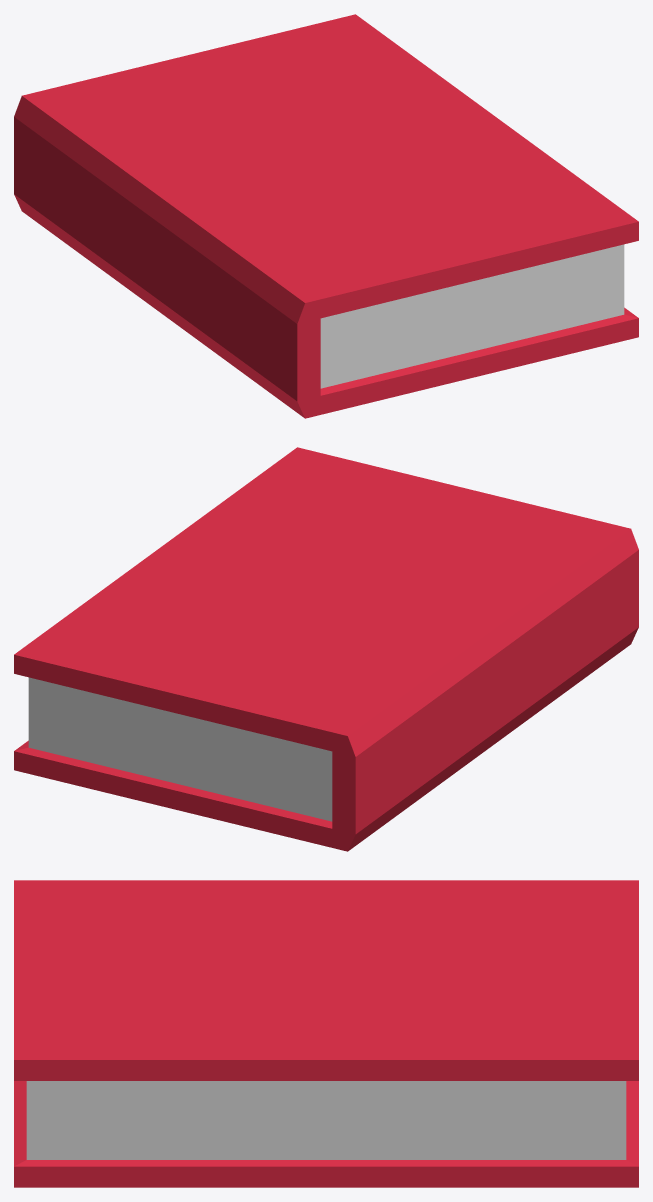
Rendered from book.fbx.
3 views of the same model, one above another, from view 1: azimuth 30°, elevation 25°; view 2: azimuth 150°, elevation 25°; view 3: azimuth 270°, elevation 25° (orthographic). The views are drawn at different scales.
Visible parts, largest first — view 1: Book; view 2: Book; view 3: Book.
Boxes of the visible parts, left/top/right/bottom form: Book: left=14, top=14, right=638, bottom=418; Book: left=14, top=447, right=638, bottom=851; Book: left=14, top=880, right=638, bottom=1187.
Bounding box in the file's own units: 38.49 × 55.29 × 12.44.
